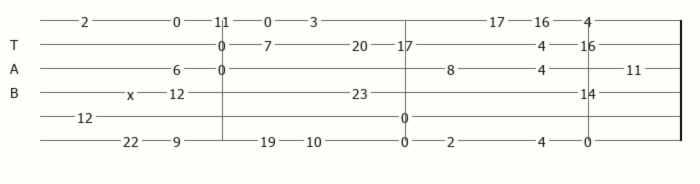0: (173, 13, 185, 27), (218, 37, 230, 51), (218, 61, 230, 75), (264, 13, 276, 27), (401, 109, 413, 123), (401, 133, 413, 147), (584, 133, 596, 147)
10: (306, 133, 326, 147)
11: (214, 13, 234, 27), (626, 61, 646, 75)
12: (77, 109, 97, 123), (169, 85, 189, 99)
14: (580, 85, 600, 99)
16: (534, 13, 554, 27), (580, 37, 600, 51)
17: (397, 37, 417, 51), (489, 13, 509, 27)
19: (260, 133, 280, 147)
2: (81, 13, 93, 27), (447, 133, 459, 147)
20: (352, 37, 372, 51)
22: (123, 133, 143, 147)
23: (352, 85, 372, 99)
3: (310, 13, 322, 27)
4: (538, 61, 550, 75), (538, 37, 550, 51), (538, 133, 550, 147), (584, 13, 596, 27)
6: (173, 61, 185, 75)
7: (264, 37, 276, 51)
8: (447, 61, 459, 75)
9: (173, 133, 185, 147)
x: (127, 86, 138, 98)
